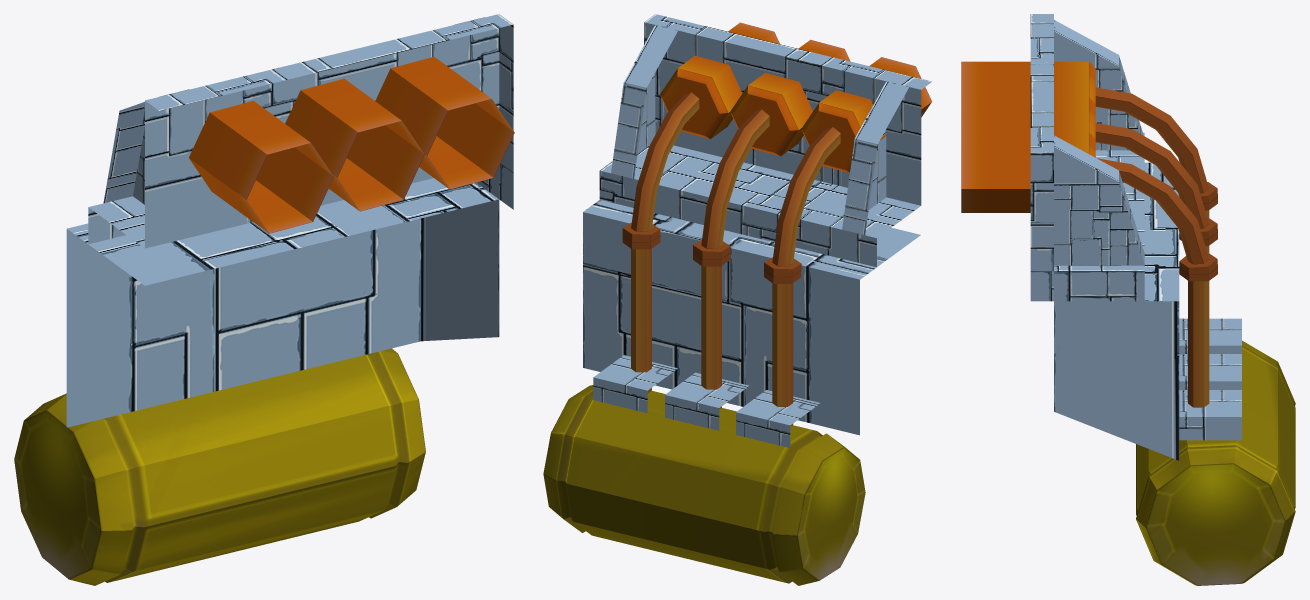
Rendered from JC_ModPanels_EdgeTile_III.fbx.
The picture shows the model from 3 angles, left to right: view 1: azimuth 30°, elevation 25°; view 2: azimuth 150°, elevation 25°; view 3: azimuth 270°, elevation 25°; orthographic projection. The views are drawn at different scales.
Visible parts, largest first — view 1: JC_ModPanels_EdgeTile_III; view 2: JC_ModPanels_EdgeTile_III; view 3: JC_ModPanels_EdgeTile_III.
Boxes of the visible parts, x1,y1,x2,y2 form: JC_ModPanels_EdgeTile_III: (14,14,514,585); JC_ModPanels_EdgeTile_III: (543,14,931,585); JC_ModPanels_EdgeTile_III: (961,14,1295,585).
Size of the model in its own units: 200 by 302 by 204.
